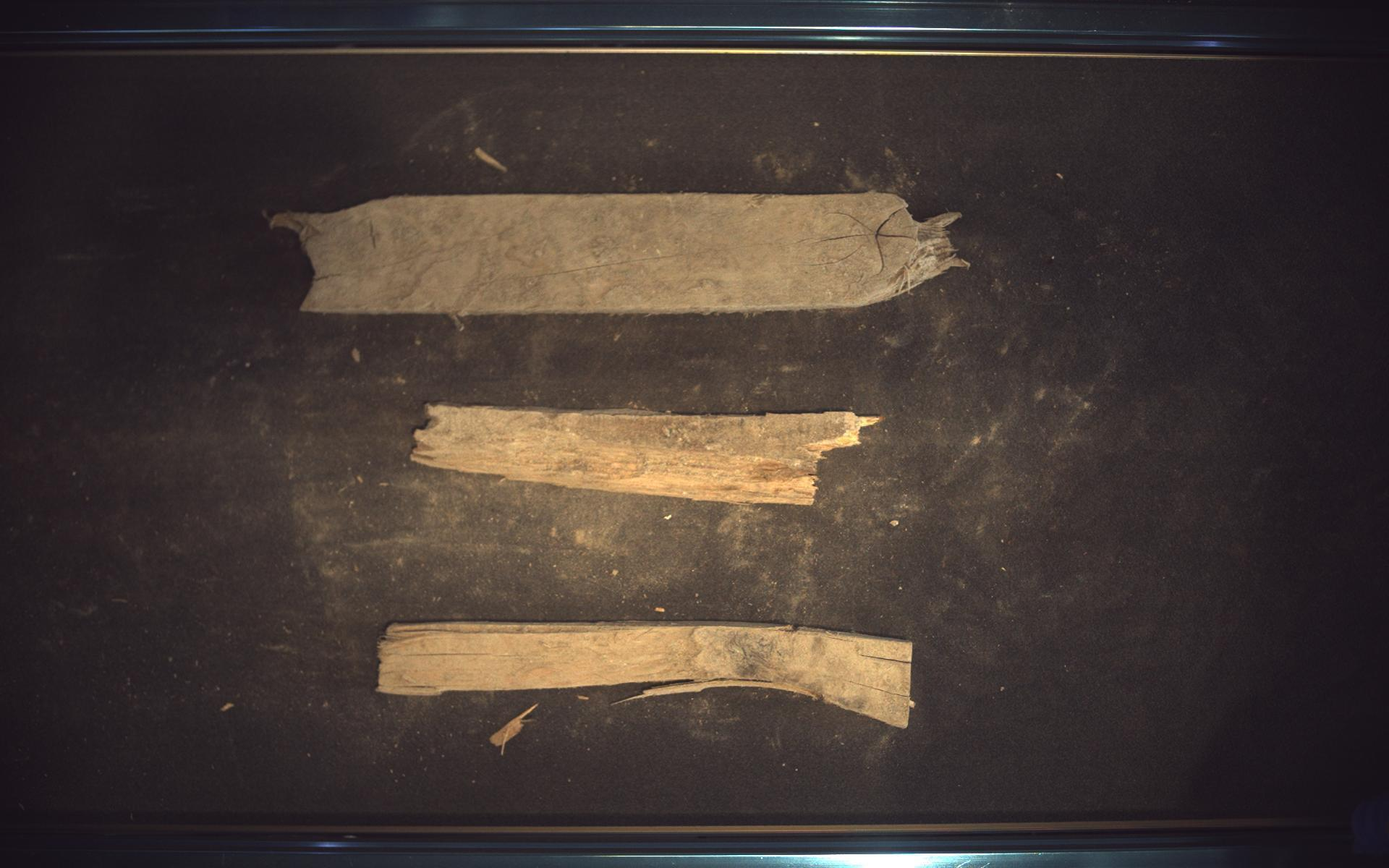wood: (378, 623, 914, 729), (411, 405, 881, 505)
